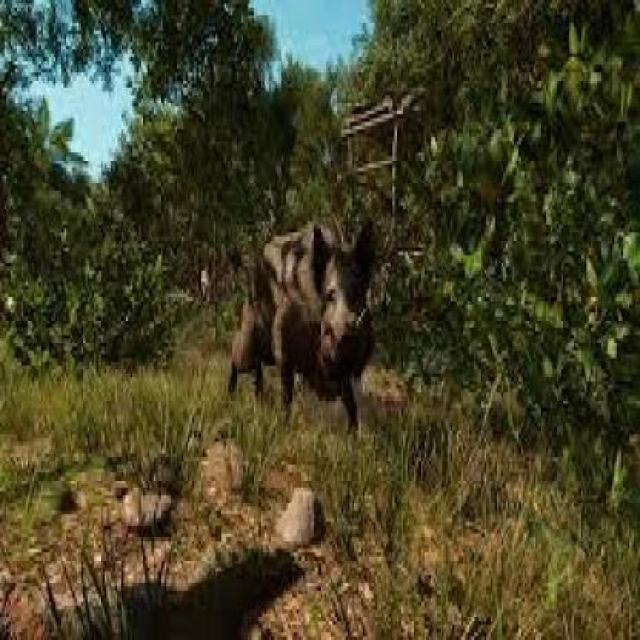wildboar: (217, 202, 386, 447)
